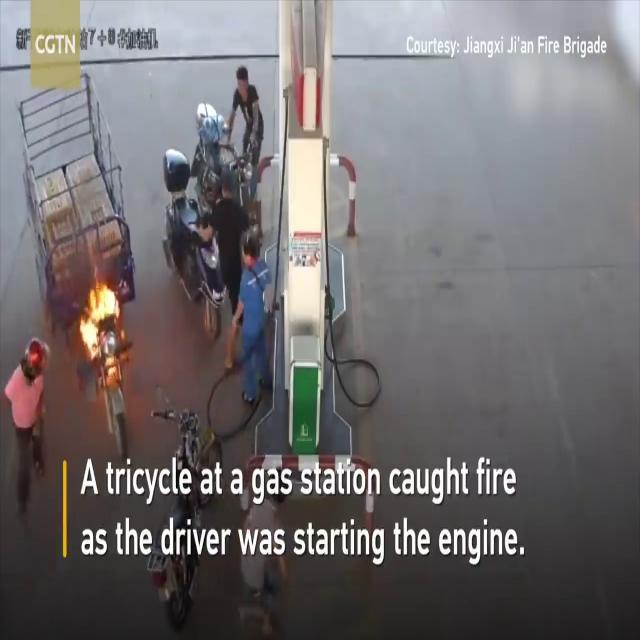Fire: (80, 270, 120, 370)
